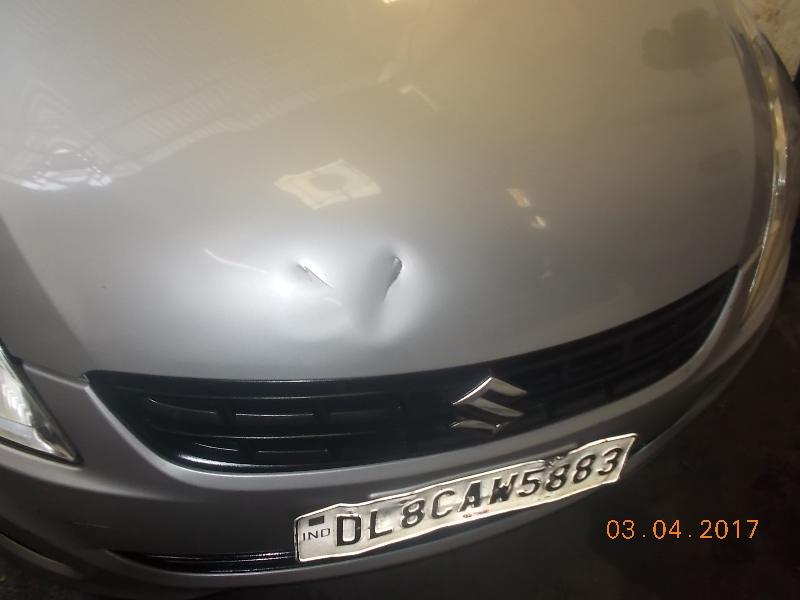Dent: (357, 245, 427, 333), (290, 250, 341, 324)
